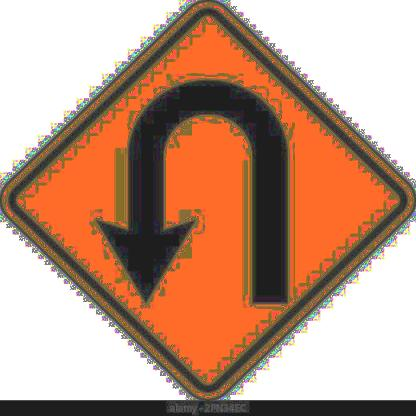U-turn: (0, 0, 415, 398)
